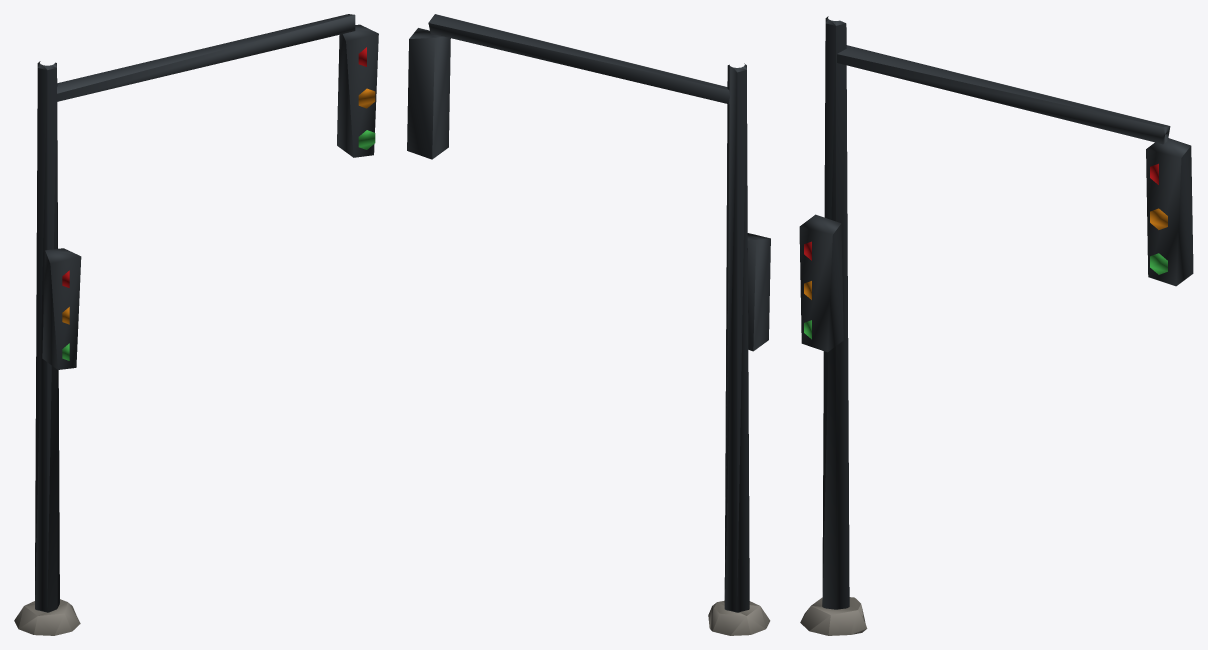
File: traffic-light-v1.lod2.glb
3 views of the same model, side by side, from view 1: azimuth 30°, elevation 25°; view 2: azimuth 150°, elevation 25°; view 3: azimuth 330°, elevation 25° (orthographic). The views are drawn at different scales.
Parts seen in each view (by area): view 1: traffic-light-v1.lod2; view 2: traffic-light-v1.lod2; view 3: traffic-light-v1.lod2.
Boxes of the visible parts, x1=… form: traffic-light-v1.lod2: x1=14, y1=14, x2=378, y2=635; traffic-light-v1.lod2: x1=407, y1=14, x2=770, y2=635; traffic-light-v1.lod2: x1=799, y1=16, x2=1193, y2=635.
Size of the model in its own units: 3.67 by 5.58 by 0.6853.
